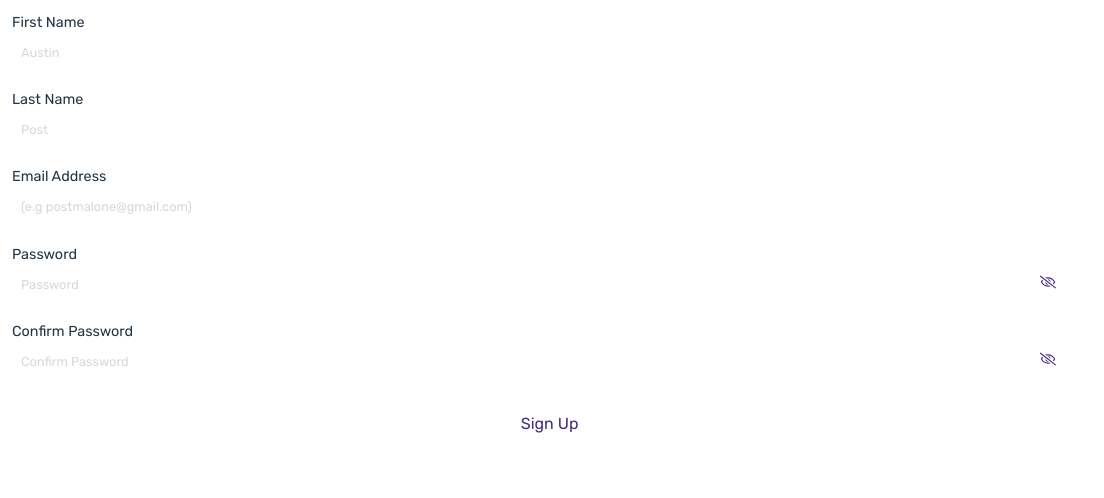
Test: SignUpForm — input validation › shows minLength error for password shorter than 8 characters
Type "Alice" into the field with placeholder "Austin" at x=533, y=53, box [12,34,1054,71]
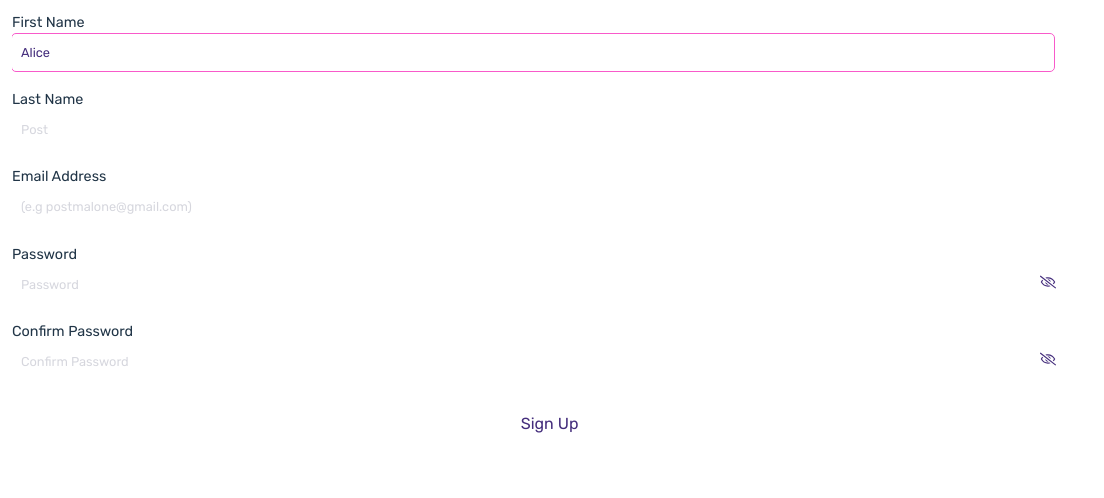
Type "Smith" into the field with placeholder "Post" at x=533, y=130, box [12,111,1054,148]
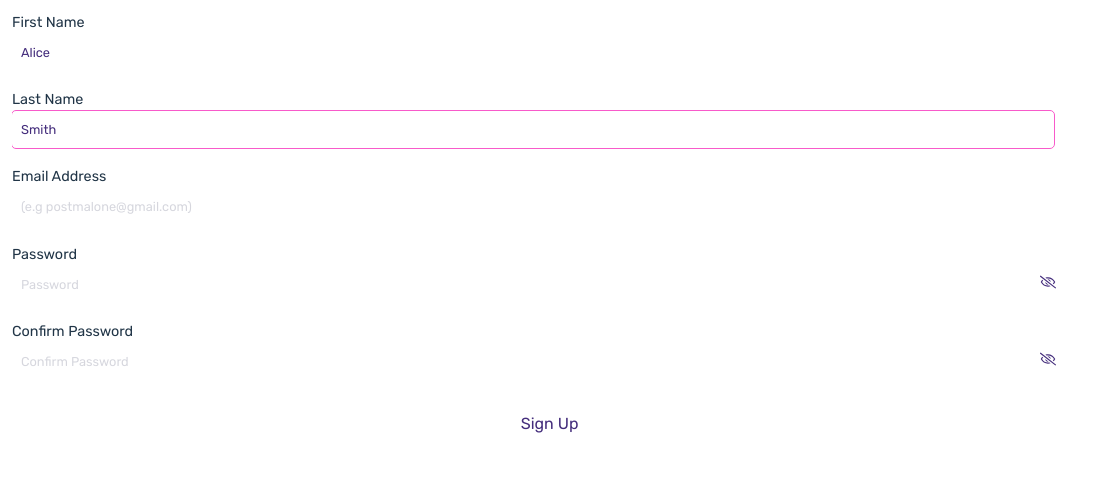
Type "alice@domain.com" into the field with placeholder "(e.g postmalone@gmail.com)" at x=533, y=207, box [12,188,1054,226]
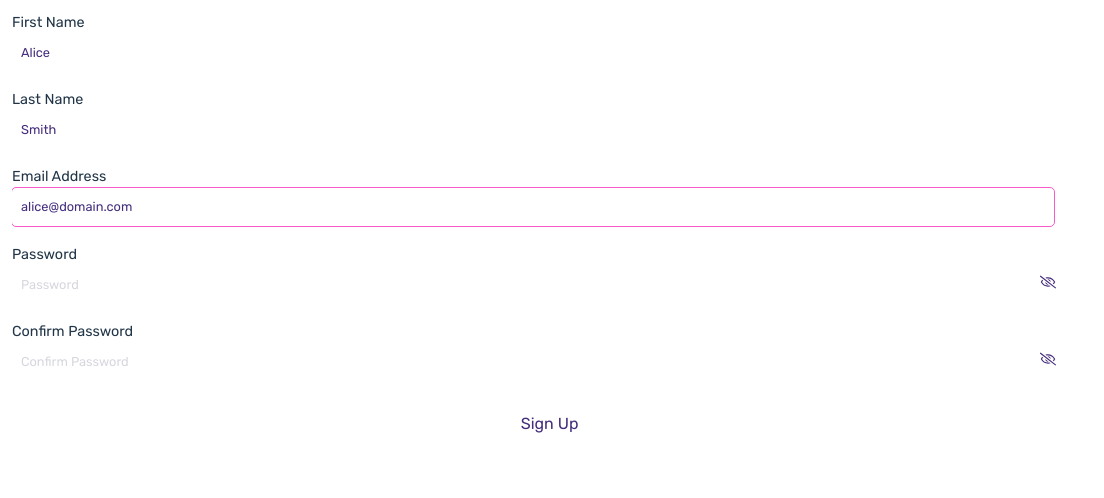
Type "Ab1@" into the password field with placeholder "Password" at x=533, y=284, box [12,266,1054,303]
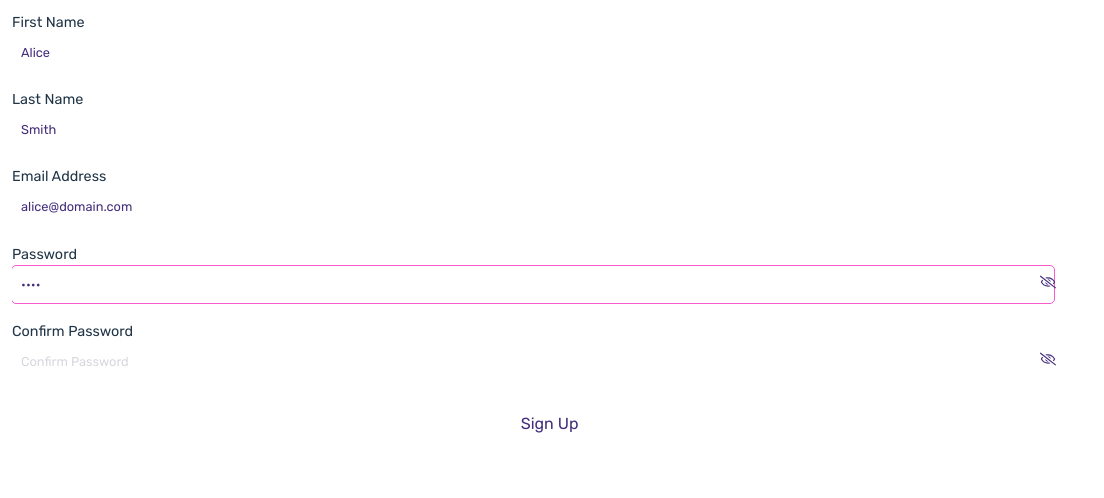
Click the button "Sign Up" at x=550, y=424, box [12,404,1087,444]
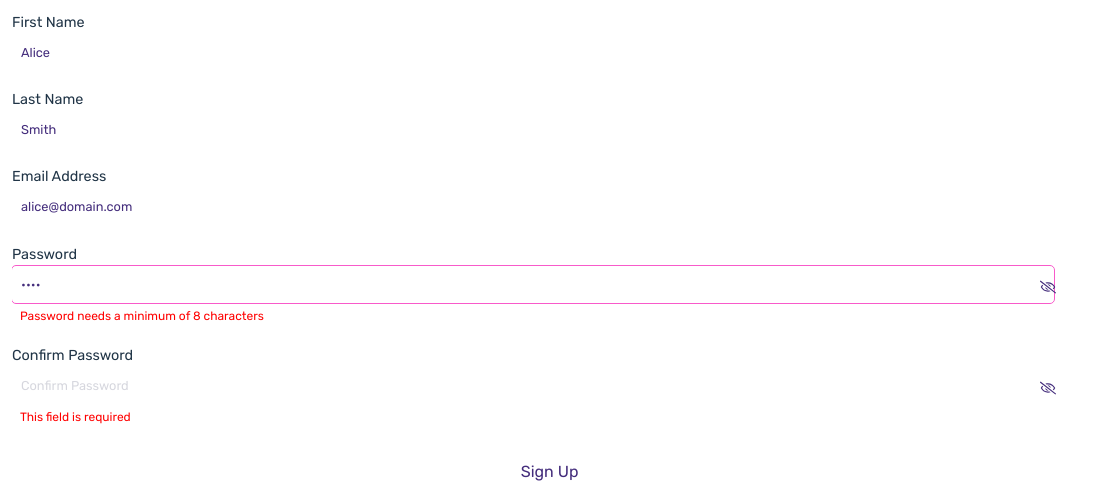
Expected: the text "Password needs a minimum of 8 characters" is shown, [12,309,264,323]
